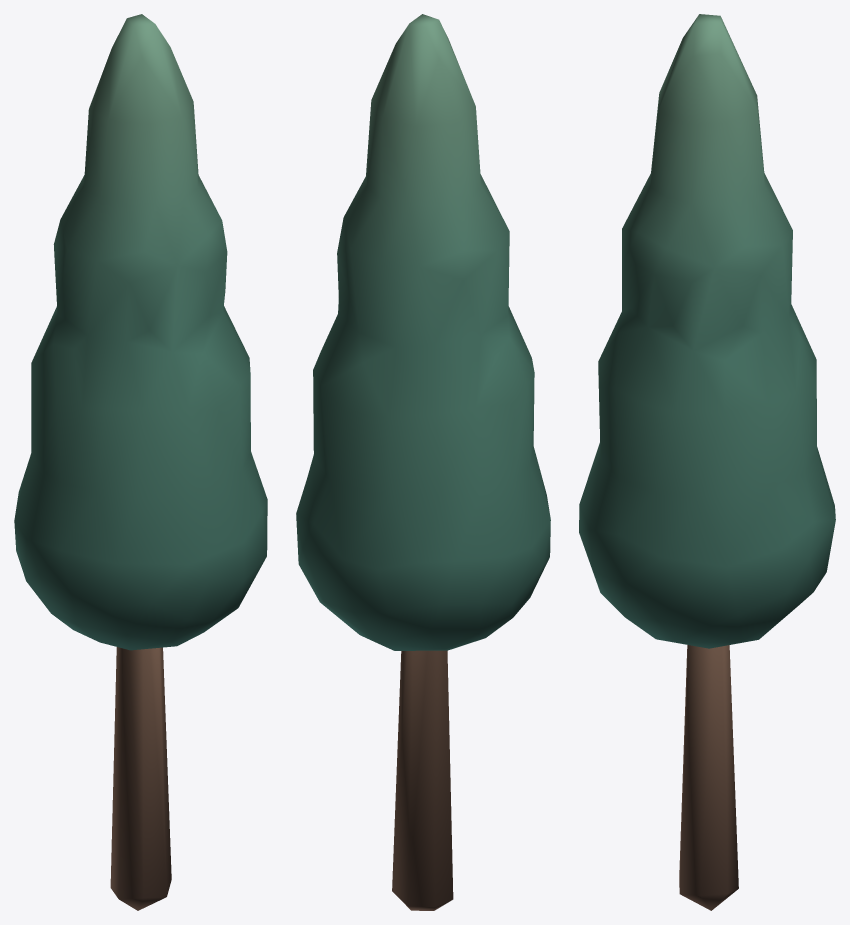
The model's file is env_sky_mtree_b.glb.
3 renders of one model, left to right at view 1: azimuth 30°, elevation 25°; view 2: azimuth 150°, elevation 25°; view 3: azimuth 270°, elevation 25°, orthographic.
Parts seen in each view (by area): view 1: SM_sky_sky_mtn_vc_x0_z0.002; view 2: SM_sky_sky_mtn_vc_x0_z0.002; view 3: SM_sky_sky_mtn_vc_x0_z0.002.
Part boxes in pixels (<box>): SM_sky_sky_mtn_vc_x0_z0.002: <box>14,14,267,910</box>; SM_sky_sky_mtn_vc_x0_z0.002: <box>296,14,550,910</box>; SM_sky_sky_mtn_vc_x0_z0.002: <box>579,14,835,910</box>.
Size of the model in its own units: 1.29 by 4.9 by 1.29.
